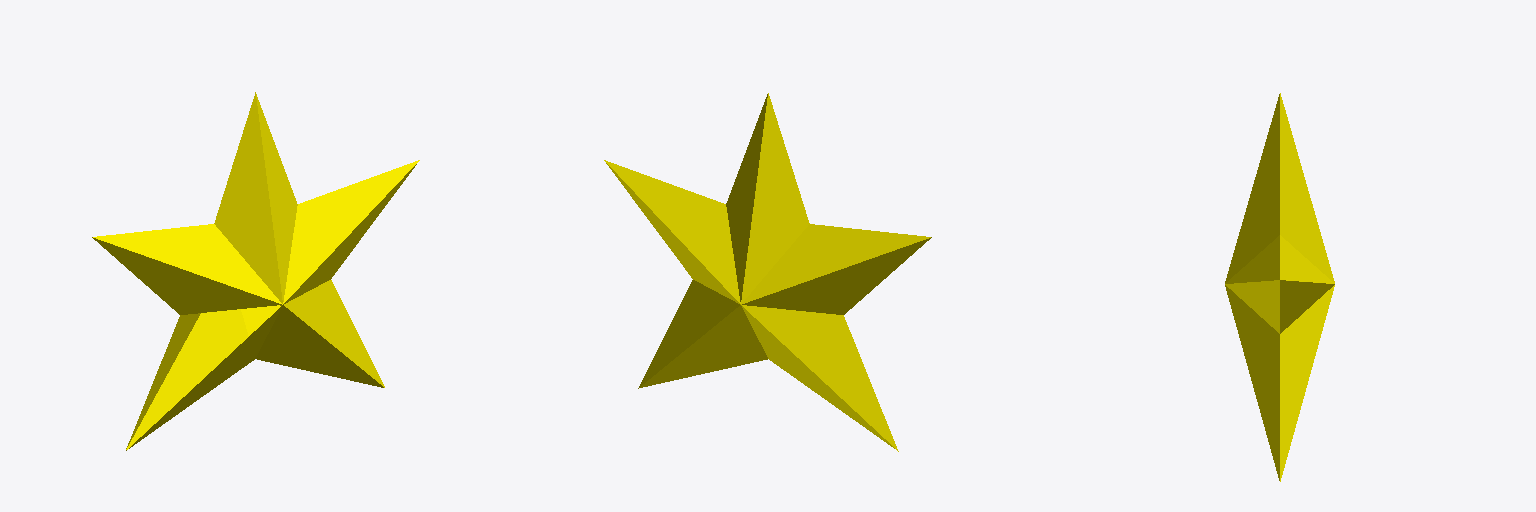
3 renders of one model, left to right at view 1: azimuth 30°, elevation 25°; view 2: azimuth 150°, elevation 25°; view 3: azimuth 270°, elevation 25°, orthographic.
Parts seen in each view (by area): view 1: Star:polySurface1; view 2: Star:polySurface1; view 3: Star:polySurface1.
Boxes of the visible parts, <box> form: Star:polySurface1: <box>92,92,419,450</box>; Star:polySurface1: <box>604,93,931,451</box>; Star:polySurface1: <box>1225,93,1334,481</box>.
Size of the model in its own units: 5.36 by 5.11 by 1.56.
1 materials, 1 textured.